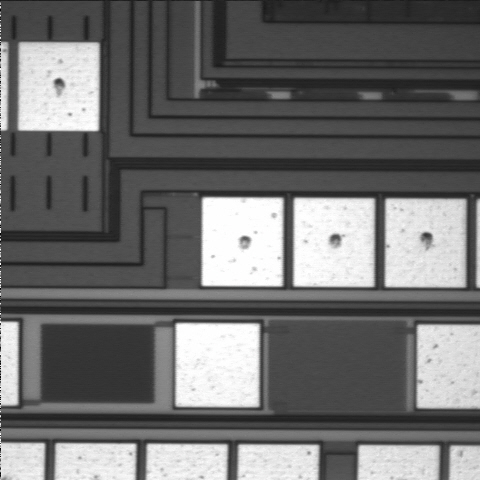pad: (293, 198, 375, 287), (202, 197, 283, 286), (18, 43, 99, 131), (385, 199, 466, 287), (176, 323, 260, 407)
